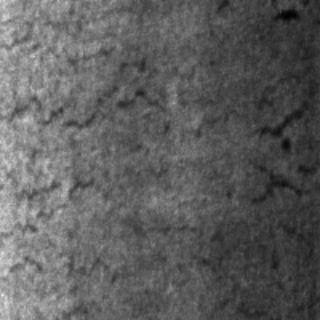crazing: (200, 77, 318, 315), (3, 2, 166, 152), (5, 174, 141, 318)
